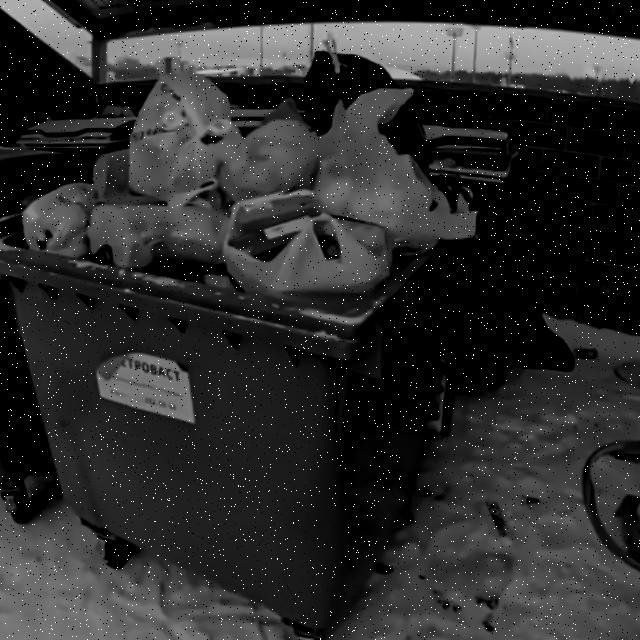Trashcan: (4, 53, 534, 631)
